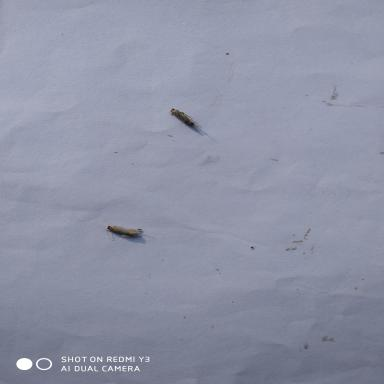pbw: (164, 105, 208, 136), (102, 221, 155, 242)
